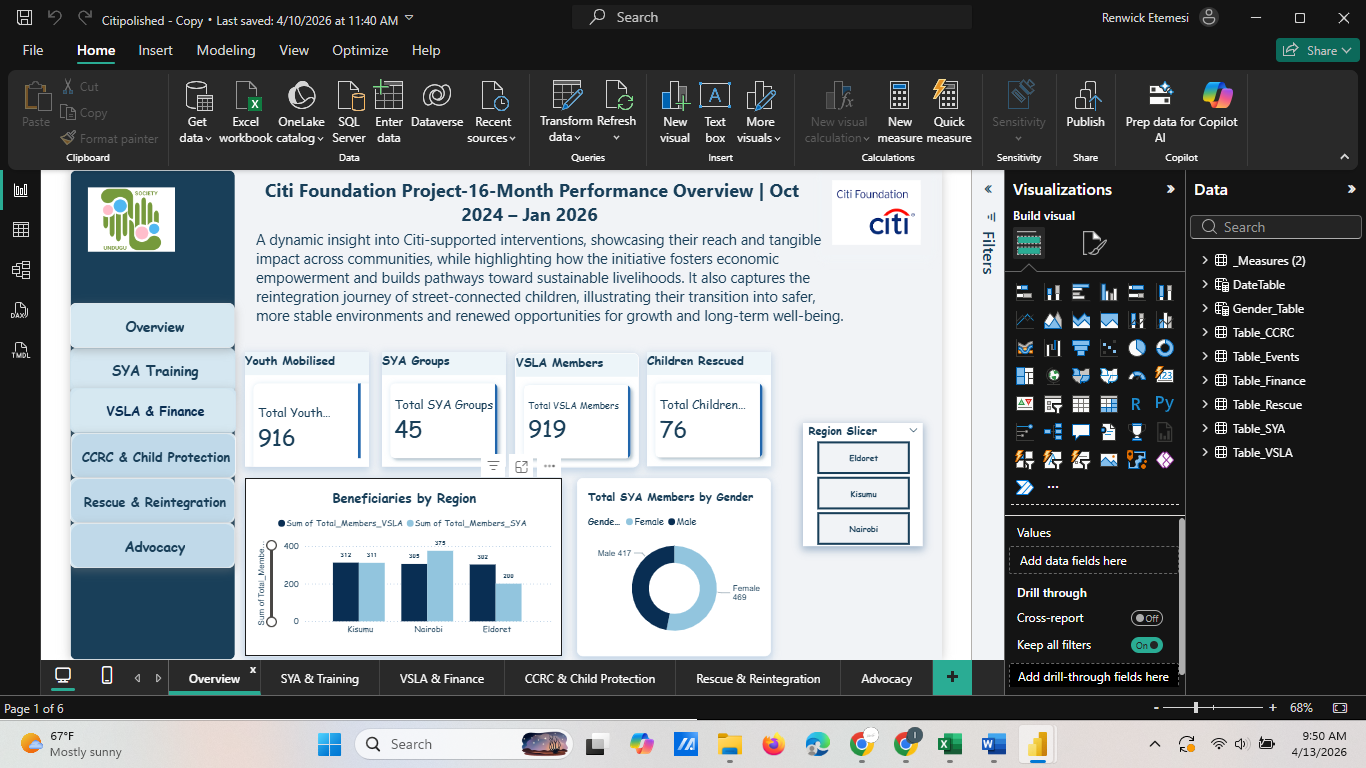

What the dashboard file says about the page in this screenshot:
{"tool":"powerbi","page":{"name":"Overview","canvas":[1280,720],"ordinal":0},"visuals":[{"type":"image","box":[1105,0,160.2,124.9],"z":0},{"type":"shape","box":[0,0,243.3,720],"z":1000},{"type":"image","box":[10,10,160.2,124.9],"z":2000},{"type":"actionButton","box":[0,261,243.3,66],"z":3000},{"type":"actionButton","box":[0,320.3,243.9,66],"z":4000},{"type":"actionButton","box":[0,195.4,242.4,66.1],"z":5000},{"type":"actionButton","box":[1.5,386.4,242.4,66.1],"z":6000},{"type":"textbox","box":[273.3,86.7,874.3,186.6],"z":7000},{"type":"textbox","box":[273.3,10.3,803.8,76.4],"z":8000},{"type":"actionButton","box":[0,452.6,242.4,66.1],"z":9000},{"type":"actionButton","box":[0,518.7,242.4,66.1],"z":10000},{"type":"cardVisual","title":"Youth Mobilised","fields":{"Data":["_Measures (2).Total Youth Mobilised"]},"box":[257.1,267.4,182.2,169],"z":11000},{"type":"cardVisual","title":"SYA Groups","fields":{"Data":["_Measures (2).Total SYA Groups"]},"box":[458.4,267.4,182.2,169],"z":12000},{"type":"cardVisual","title":"Children Rescued","fields":{"Data":["_Measures (2).Total Children Rescued"]},"box":[847.8,267.4,182.2,167.5],"z":13000},{"type":"cardVisual","title":"VSLA Members","fields":{"Data":["_Measures (2).Total VSLA Members"]},"box":[653.9,268.9,182.2,167.5],"z":14000},{"type":"clusteredColumnChart","title":"Beneficiaries by Region","fields":{"Category":["Table_CCRC.Region"],"Y":["Sum(Table_VSLA.Total_Members)","Sum(Table_SYA.Total_Members)"]},"box":[257.1,452.6,465.8,261.6],"z":15000},{"type":"donutChart","title":"Total SYA Members by Gender","fields":{"Category":["Gender_Table.Gender"],"Y":["Gender_Table.Total Members"]},"box":[745,452.6,285.1,261.6],"z":16000},{"type":"slicer","fields":{"Values":["Table_CCRC.Region"]},"box":[1077.1,371.8,176.3,180.7],"z":17000}]}

Visuals, with their boxes on the page's 1280x720 design canvas (x1, y1, x2, y2). These are canvas units, not pixel positions in the 1366x768 screenshot, which may show the page scaled, cropped or inside an application window:
image: {"left": 1105, "top": 0, "right": 1265, "bottom": 125}
shape: {"left": 0, "top": 0, "right": 243, "bottom": 720}
image: {"left": 10, "top": 10, "right": 170, "bottom": 135}
actionButton: {"left": 0, "top": 261, "right": 243, "bottom": 327}
actionButton: {"left": 0, "top": 320, "right": 244, "bottom": 386}
actionButton: {"left": 0, "top": 195, "right": 242, "bottom": 262}
actionButton: {"left": 2, "top": 386, "right": 244, "bottom": 452}
textbox: {"left": 273, "top": 87, "right": 1148, "bottom": 273}
textbox: {"left": 273, "top": 10, "right": 1077, "bottom": 87}
actionButton: {"left": 0, "top": 453, "right": 242, "bottom": 519}
actionButton: {"left": 0, "top": 519, "right": 242, "bottom": 585}
"Youth Mobilised" cardVisual: {"left": 257, "top": 267, "right": 439, "bottom": 436}
"SYA Groups" cardVisual: {"left": 458, "top": 267, "right": 641, "bottom": 436}
"Children Rescued" cardVisual: {"left": 848, "top": 267, "right": 1030, "bottom": 435}
"VSLA Members" cardVisual: {"left": 654, "top": 269, "right": 836, "bottom": 436}
"Beneficiaries by Region" clusteredColumnChart: {"left": 257, "top": 453, "right": 723, "bottom": 714}
"Total SYA Members by Gender" donutChart: {"left": 745, "top": 453, "right": 1030, "bottom": 714}
slicer - Table_CCRC.Region: {"left": 1077, "top": 372, "right": 1253, "bottom": 552}
